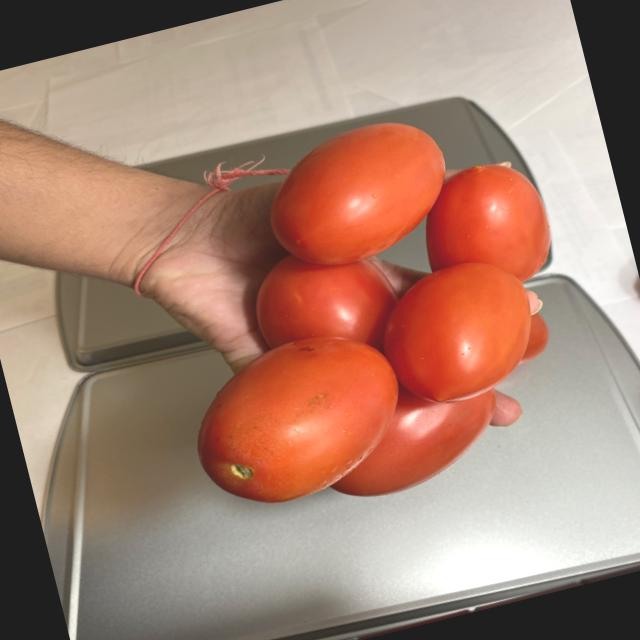tomato: (131, 91, 598, 542)
